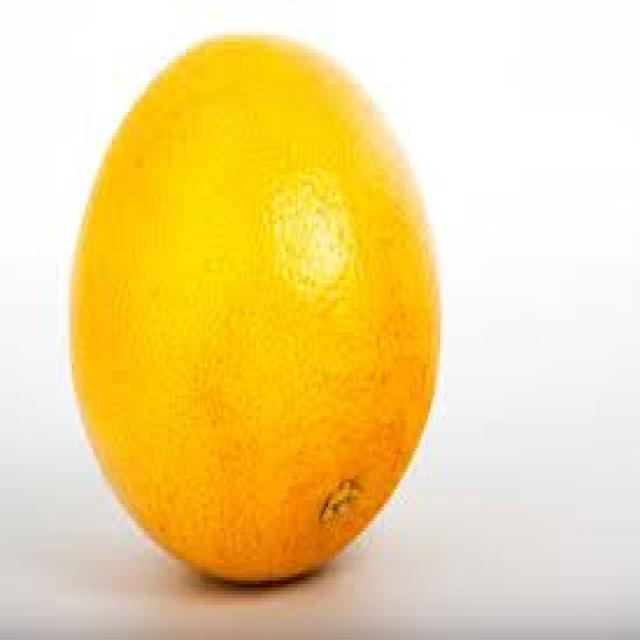greapefurit: (60, 21, 440, 581)
